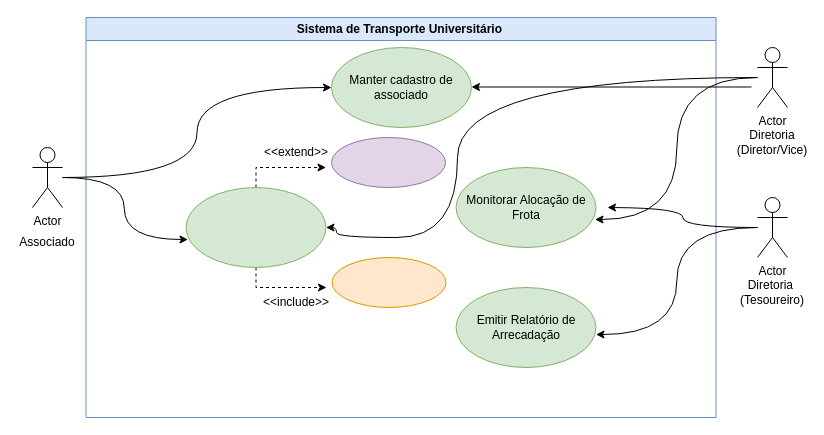
Some shapes in this 824 by 435 pixel diagram are drawn without their labels. Here are the shapes that lost their labels. From the top down, the box of each, then its label:
(330, 136, 446, 188): Alterar Inscrição Fora do Prazo
(185, 186, 326, 268): Solicitar Inscrição em Transporte
(331, 256, 446, 308): Calcular Mensalidade Progressiva
